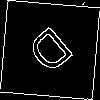D: (25, 25, 82, 83)
